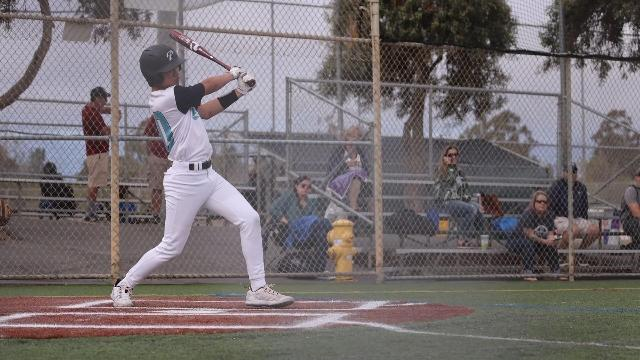bat: (168, 29, 230, 71)
